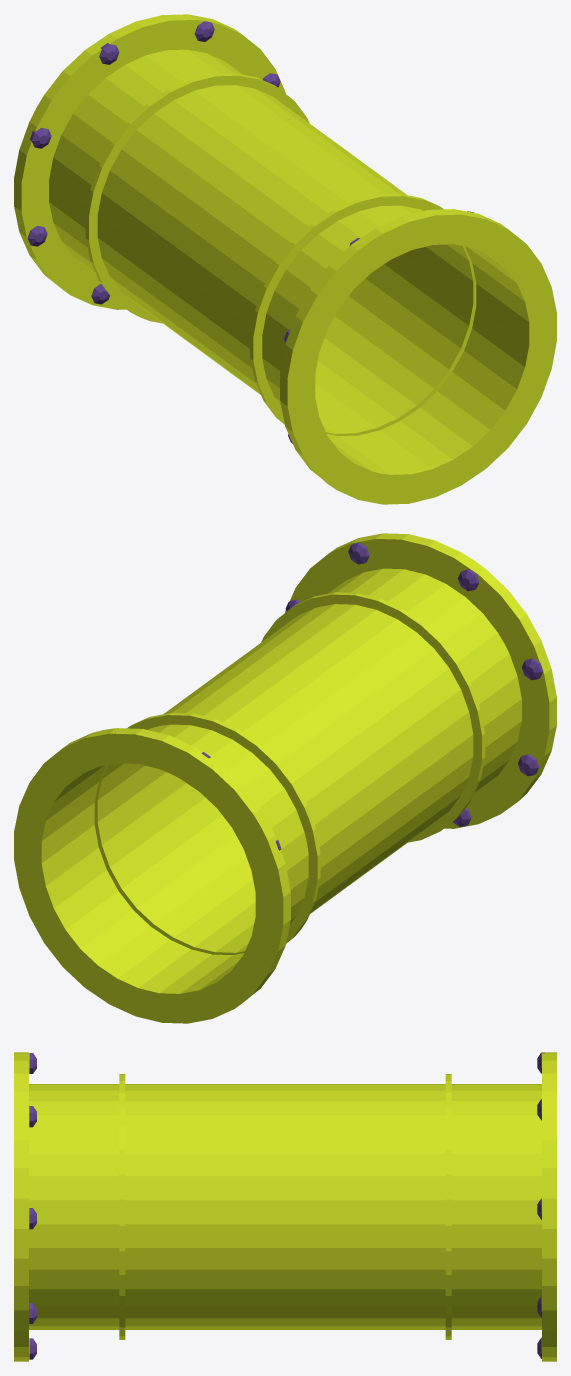
File: Curto_Nerfado_Anim.fbx
3 views of the same model, one above another, from view 1: azimuth 30°, elevation 25°; view 2: azimuth 150°, elevation 25°; view 3: azimuth 270°, elevation 25° (orthographic).
Visible parts, largest first — view 1: Cano1; view 2: Cano1; view 3: Cano1.
Boxes of the visible parts, bbox=[...] form: Cano1: bbox=[14, 14, 556, 504]; Cano1: bbox=[14, 533, 556, 1023]; Cano1: bbox=[14, 1052, 556, 1361].
Size of the model in its own units: 2.26 by 2.26 by 3.97.
